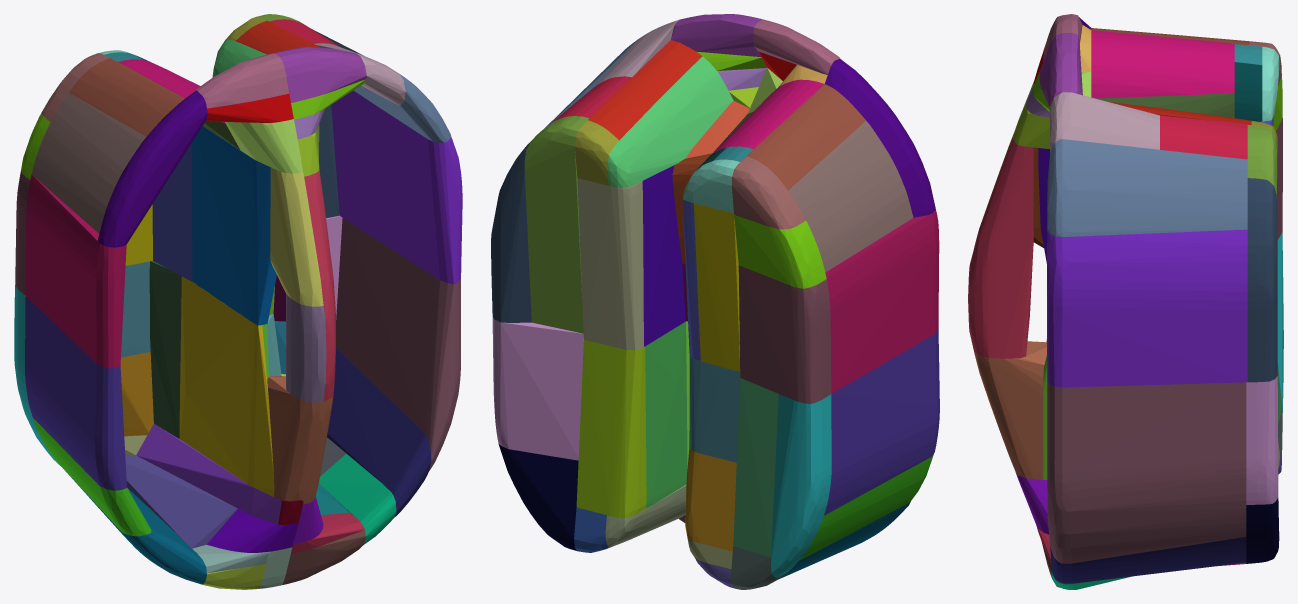
Rendered from coacd_merged.obj.
3 renders of one model, left to right at view 1: azimuth 30°, elevation 25°; view 2: azimuth 150°, elevation 25°; view 3: azimuth 270°, elevation 25°, orthographic.
Parts seen in each view (by area): view 1: geometry_5, geometry_6, geometry_75, geometry_67, geometry_12, geometry_9, geometry_33, geometry_26, geometry_22, geometry_39, geometry_68, geometry_4 (+38 smaller); view 2: geometry_12, geometry_9, geometry_8, geometry_3, geometry_2, geometry_13, geometry_33, geometry_1, geometry_10, geometry_54, geometry_57, geometry_11 (+30 smaller); view 3: geometry_5, geometry_6, geometry_19, geometry_46, geometry_41, geometry_39, geometry_7, geometry_49, geometry_26, geometry_8, geometry_45, geometry_28 (+17 smaller).
Part boxes in pixels (x1,y1,x2,y2): geometry_5: (336, 218, 460, 470); geometry_6: (331, 90, 462, 284); geometry_75: (179, 276, 274, 496); geometry_67: (191, 126, 276, 325); geometry_12: (25, 174, 126, 368); geometry_9: (25, 296, 126, 490); geometry_33: (31, 93, 146, 233); geometry_26: (327, 348, 431, 516); geometry_22: (97, 91, 207, 247); geometry_39: (267, 376, 333, 504); geometry_68: (270, 167, 323, 306); geometry_4: (125, 455, 237, 548); geometry_12: (825, 209, 939, 393); geometry_9: (824, 328, 939, 515); geometry_8: (492, 317, 583, 460); geometry_3: (576, 340, 646, 518); geometry_2: (524, 116, 589, 333); geometry_13: (738, 265, 831, 403); geometry_33: (788, 121, 913, 272); geometry_1: (577, 178, 643, 350); geometry_10: (771, 394, 831, 577); geometry_54: (607, 56, 733, 187); geometry_57: (645, 321, 687, 508); geometry_11: (693, 203, 740, 371); geometry_5: (1047, 382, 1246, 563); geometry_6: (1047, 229, 1247, 387); geometry_19: (1047, 139, 1247, 236); geometry_46: (968, 137, 1033, 358); geometry_41: (1091, 30, 1234, 98); geometry_39: (974, 341, 1046, 479); geometry_7: (1247, 178, 1277, 382); geometry_49: (1049, 92, 1159, 152); geometry_26: (1050, 537, 1246, 583); geometry_8: (1246, 376, 1278, 504); geometry_45: (1160, 115, 1247, 159); geometry_28: (1039, 33, 1082, 106).
Bounding box in the file's own units: 0.3231 × 0.4532 × 0.2414.
